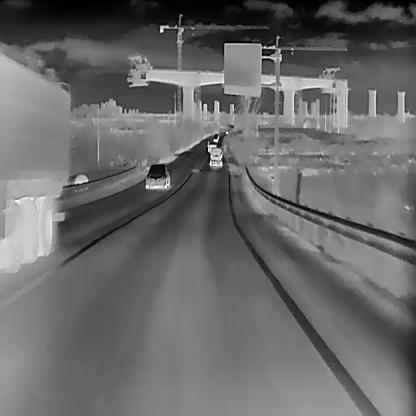car: (0, 52, 73, 270), (145, 163, 169, 190), (210, 148, 223, 165), (207, 141, 217, 151), (212, 135, 218, 141), (215, 133, 219, 138), (225, 130, 227, 133)
